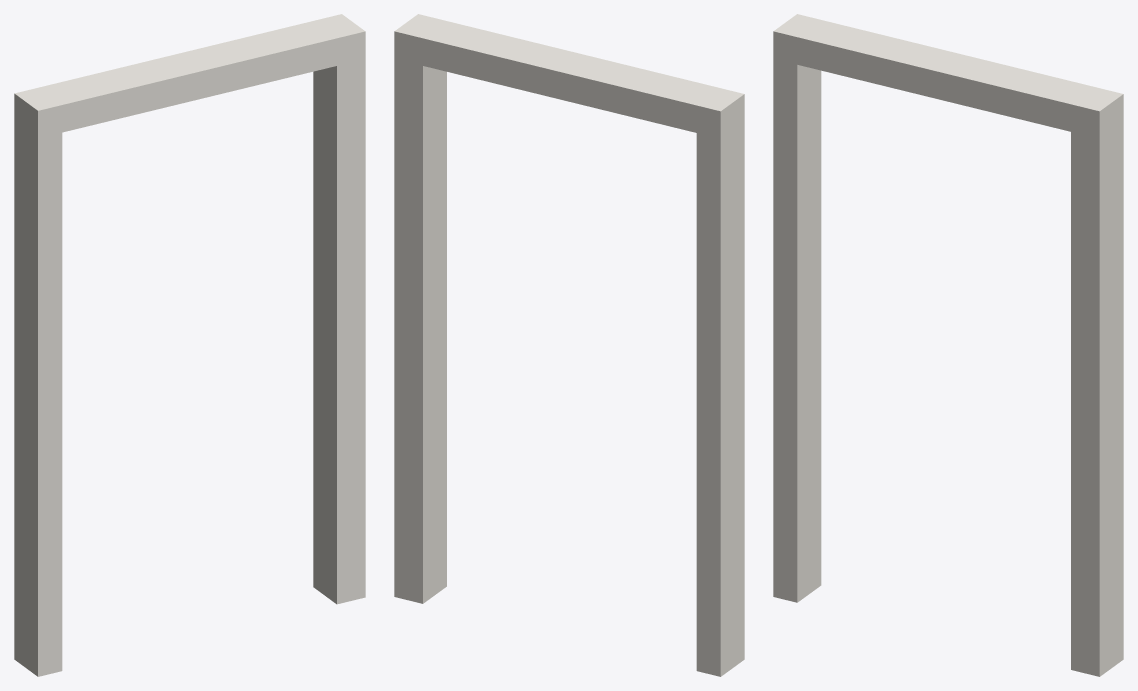
The model's file is Door Frame.fbx.
3 renders of one model, left to right at view 1: azimuth 30°, elevation 25°; view 2: azimuth 150°, elevation 25°; view 3: azimuth 330°, elevation 25°, orthographic.
Parts seen in each view (by area): view 1: Wall_with_Door1; view 2: Wall_with_Door1; view 3: Wall_with_Door1.
Part boxes in pixels (x1,y1,x2,y2): Wall_with_Door1: [14, 14, 365, 676]; Wall_with_Door1: [394, 14, 744, 676]; Wall_with_Door1: [773, 14, 1123, 676].
Size of the model in its own units: 1.59 by 2.63 by 0.2036.
1 material, 1 textured.
